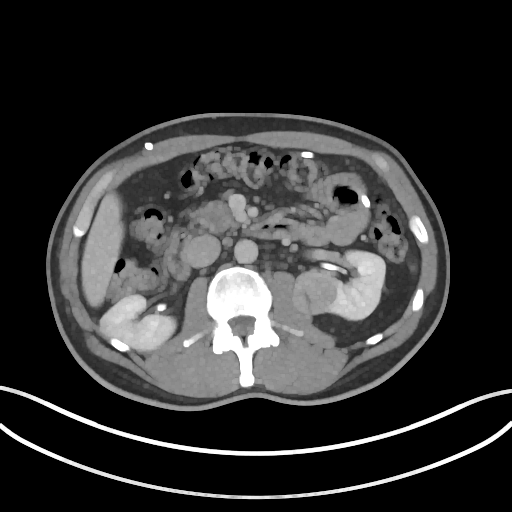Lesion: (289, 261, 341, 319)
